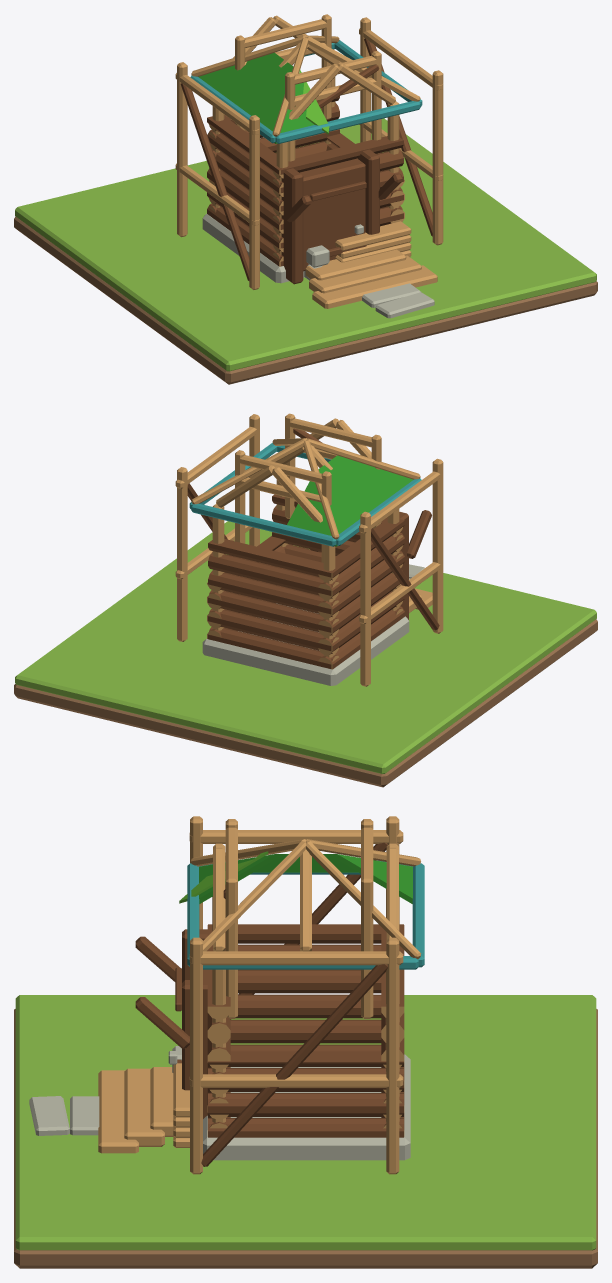
File: town_hall_l02_construction_LOD0.glb
3 views of the same model, one above another, from view 1: azimuth 30°, elevation 25°; view 2: azimuth 150°, elevation 25°; view 3: azimuth 270°, elevation 25° (orthographic). The views are drawn at different scales.
Parts seen in each view (by area): view 1: town_hall_l02_construction_grass_tile, town_hall_l02_construction_earth_tile, town_hall_l02_construction_door_recess, town_hall_l02_construction_hip_roof_shingle.011, town_hall_l02_construction_door_jamb, town_hall_l02_construction_scaffold_post.002, town_hall_l02_construction_scaffold_post, town_hall_l02_construction_entry_step.002, town_hall_l02_construction_scaffold_brace, town_hall_l02_construction_scaffold_post.001, town_hall_l02_construction_wall_log.020, town_hall_l02_construction_entry_step.001 (+34 smaller); view 2: town_hall_l02_construction_grass_tile, town_hall_l02_construction_earth_tile, town_hall_l02_construction_foundation, town_hall_l02_construction_wall_log.017, town_hall_l02_construction_wall_log.013, town_hall_l02_construction_hip_roof_shingle.011, town_hall_l02_construction_wall_log.009, town_hall_l02_construction_wall_log.005, town_hall_l02_construction_scaffold_post, town_hall_l02_construction_wall_log.021, town_hall_l02_construction_wall_log.001, town_hall_l02_construction_scaffold_post.003 (+30 smaller); view 3: town_hall_l02_construction_grass_tile, town_hall_l02_construction_earth_tile, town_hall_l02_construction_foundation, town_hall_l02_construction_wall_log.007, town_hall_l02_construction_wall_log.006, town_hall_l02_construction_wall_log.003, town_hall_l02_construction_scaffold_post.003, town_hall_l02_construction_wall_log.014, town_hall_l02_construction_scaffold_brace.001, town_hall_l02_construction_scaffold_post.002, town_hall_l02_construction_wall_log.010, town_hall_l02_construction_scaffold_rail.003 (+36 smaller).
Part boxes in pixels (x1,y1,x2,y2): town_hall_l02_construction_grass_tile: (15, 118, 596, 371); town_hall_l02_construction_earth_tile: (14, 216, 597, 384); town_hall_l02_construction_door_recess: (299, 158, 365, 271); town_hall_l02_construction_hip_roof_shingle.011: (198, 67, 281, 143); town_hall_l02_construction_door_jamb: (281, 168, 303, 284); town_hall_l02_construction_scaffold_post.002: (432, 70, 443, 245); town_hall_l02_construction_scaffold_post: (249, 115, 259, 289); town_hall_l02_construction_entry_step.002: (312, 265, 437, 308); town_hall_l02_construction_scaffold_brace: (180, 83, 249, 280); town_hall_l02_construction_scaffold_post.001: (177, 62, 187, 237); town_hall_l02_construction_wall_log.020: (272, 136, 403, 177); town_hall_l02_construction_entry_step.001: (309, 255, 421, 293); town_hall_l02_construction_grass_tile: (15, 521, 596, 773); town_hall_l02_construction_earth_tile: (14, 619, 597, 787); town_hall_l02_construction_foundation: (202, 603, 409, 685); town_hall_l02_construction_wall_log.017: (208, 552, 338, 598); town_hall_l02_construction_wall_log.013: (208, 570, 338, 617); town_hall_l02_construction_hip_roof_shingle.011: (330, 469, 413, 546); town_hall_l02_construction_wall_log.009: (208, 590, 338, 635); town_hall_l02_construction_wall_log.005: (208, 608, 338, 653); town_hall_l02_construction_scaffold_post: (432, 458, 443, 633); town_hall_l02_construction_wall_log.021: (208, 539, 339, 580); town_hall_l02_construction_wall_log.001: (208, 627, 338, 668); town_hall_l02_construction_scaffold_post.003: (177, 467, 187, 641); town_hall_l02_construction_grass_tile: (15, 995, 596, 1250); town_hall_l02_construction_earth_tile: (14, 1009, 597, 1268); town_hall_l02_construction_foundation: (203, 1054, 410, 1160); town_hall_l02_construction_wall_log.007: (208, 1093, 403, 1116); town_hall_l02_construction_wall_log.006: (230, 1019, 381, 1043); town_hall_l02_construction_wall_log.003: (208, 1118, 403, 1137); town_hall_l02_construction_scaffold_post.003: (386, 937, 399, 1174); town_hall_l02_construction_wall_log.014: (238, 969, 381, 993); town_hall_l02_construction_scaffold_brace.001: (201, 964, 387, 1166); town_hall_l02_construction_scaffold_post.002: (190, 937, 202, 1174); town_hall_l02_construction_wall_log.010: (236, 994, 381, 1018); town_hall_l02_construction_scaffold_rail.003: (189, 951, 403, 965).
Bounding box in the file's own units: 3.6 × 2.09 × 3.6.
